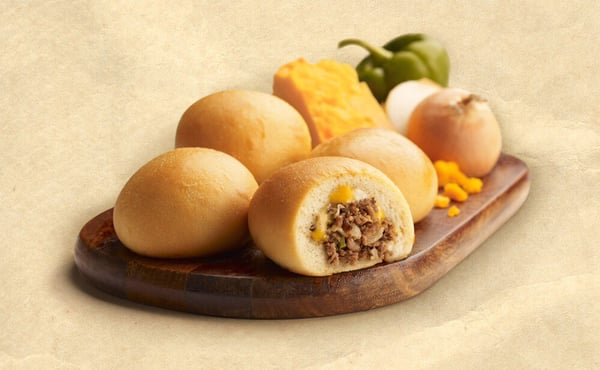taco: (112, 146, 259, 259), (174, 88, 314, 183), (272, 56, 390, 148)
